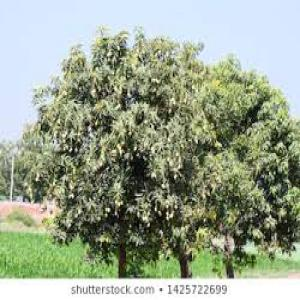Tree: (15, 24, 214, 273), (199, 55, 299, 270)
